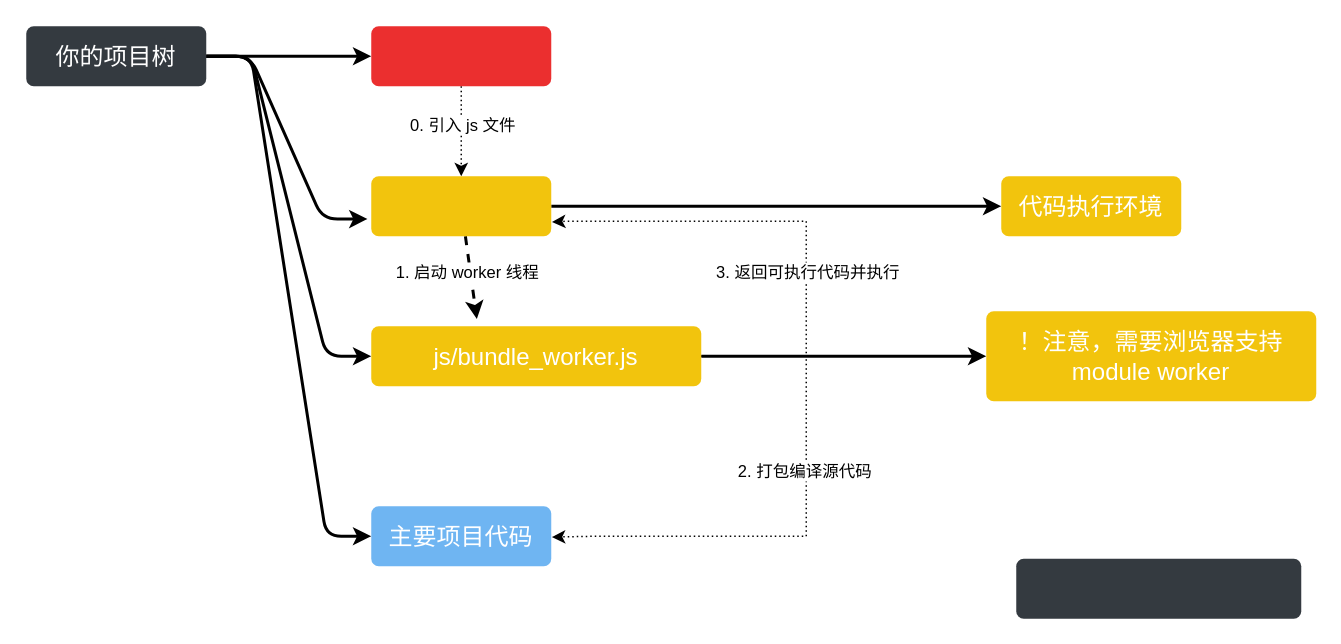
Image size: 1341x644. Some labels were removed from this diagram. The centre of each missing label's shape, as x and y in pixels:
"index.html" belongs at point (460, 56).
"js/index.js" belongs at point (460, 206).
"Rollup-Web 执行顺序" belongs at point (1158, 588).
